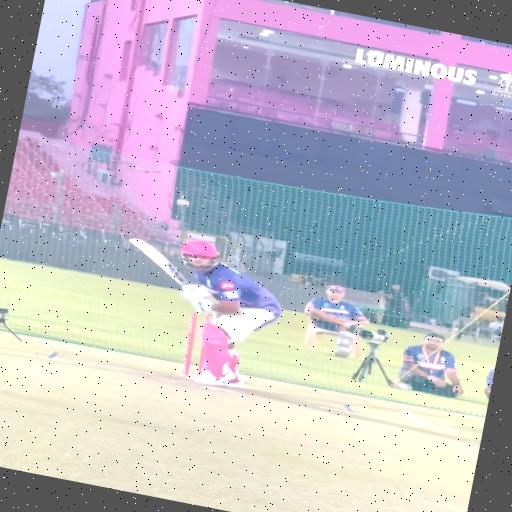Cricket bat: (129, 238, 188, 287)
